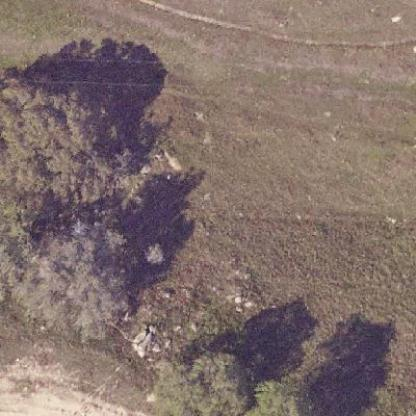tree-top: (0, 73, 116, 206), (13, 224, 133, 332), (153, 340, 254, 415), (247, 369, 310, 415)
